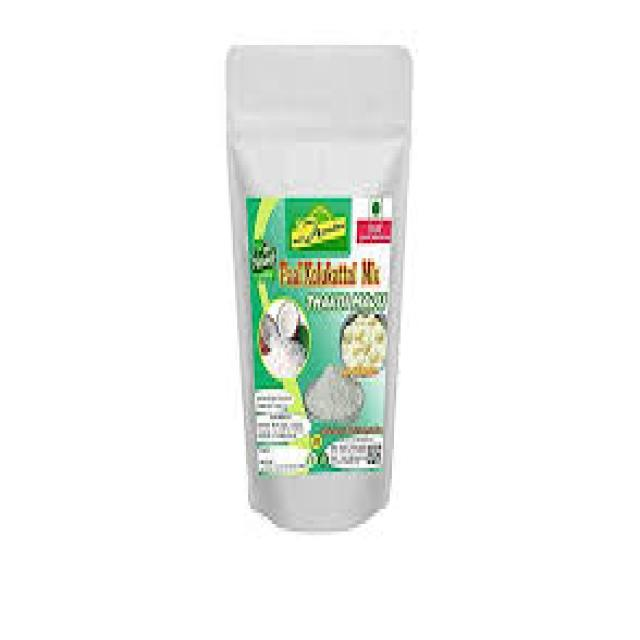paal kolukattai: (340, 306, 389, 374)
